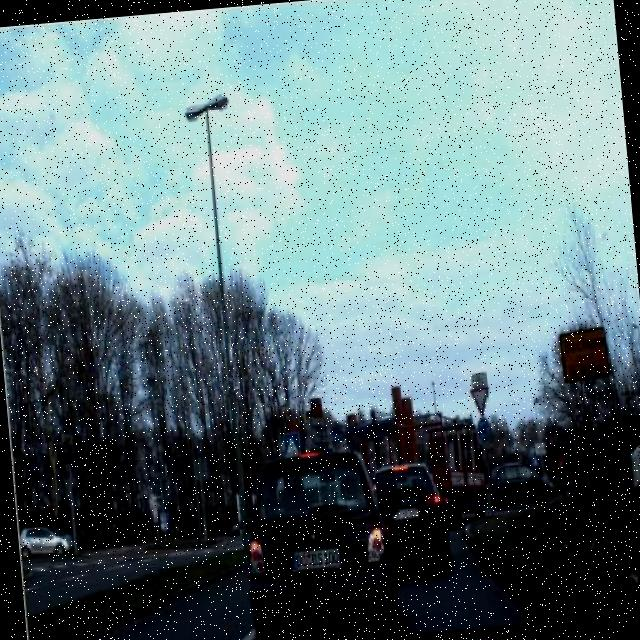Ustap pierwszenstwa: (466, 378, 494, 416)
